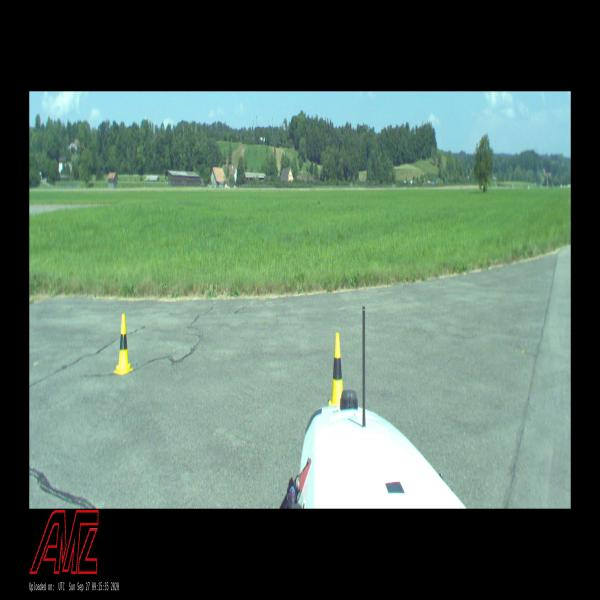yellow_cone: (114, 316, 133, 374), (329, 333, 343, 404)
